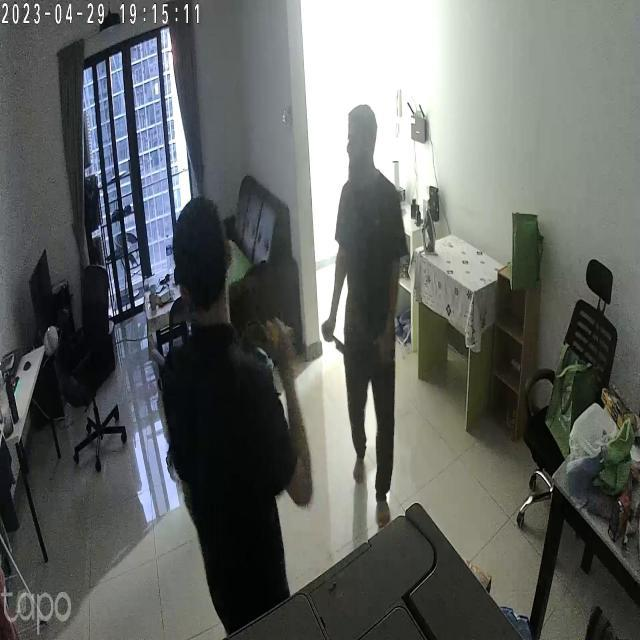Knife: (314, 328, 355, 367)
